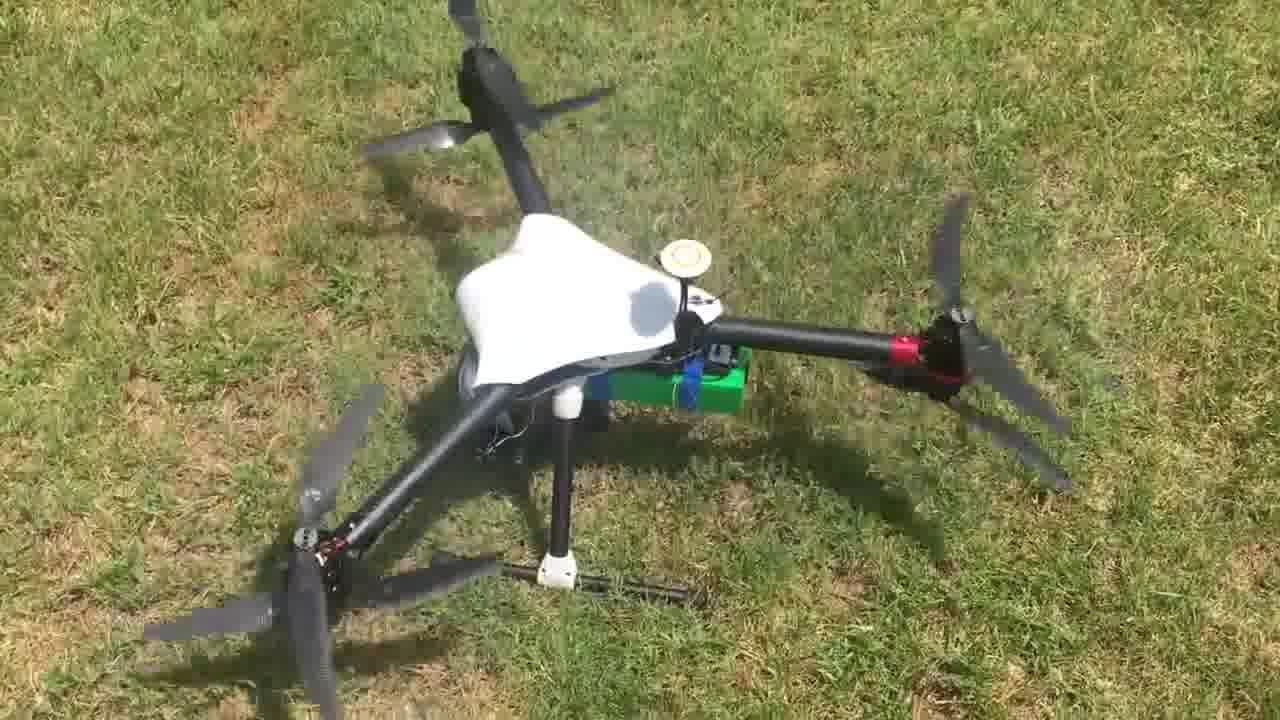drone: (144, 5, 907, 634)
